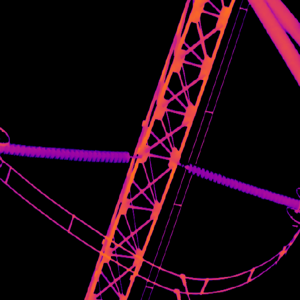insulator: (186, 157, 300, 210), (0, 141, 130, 163)
